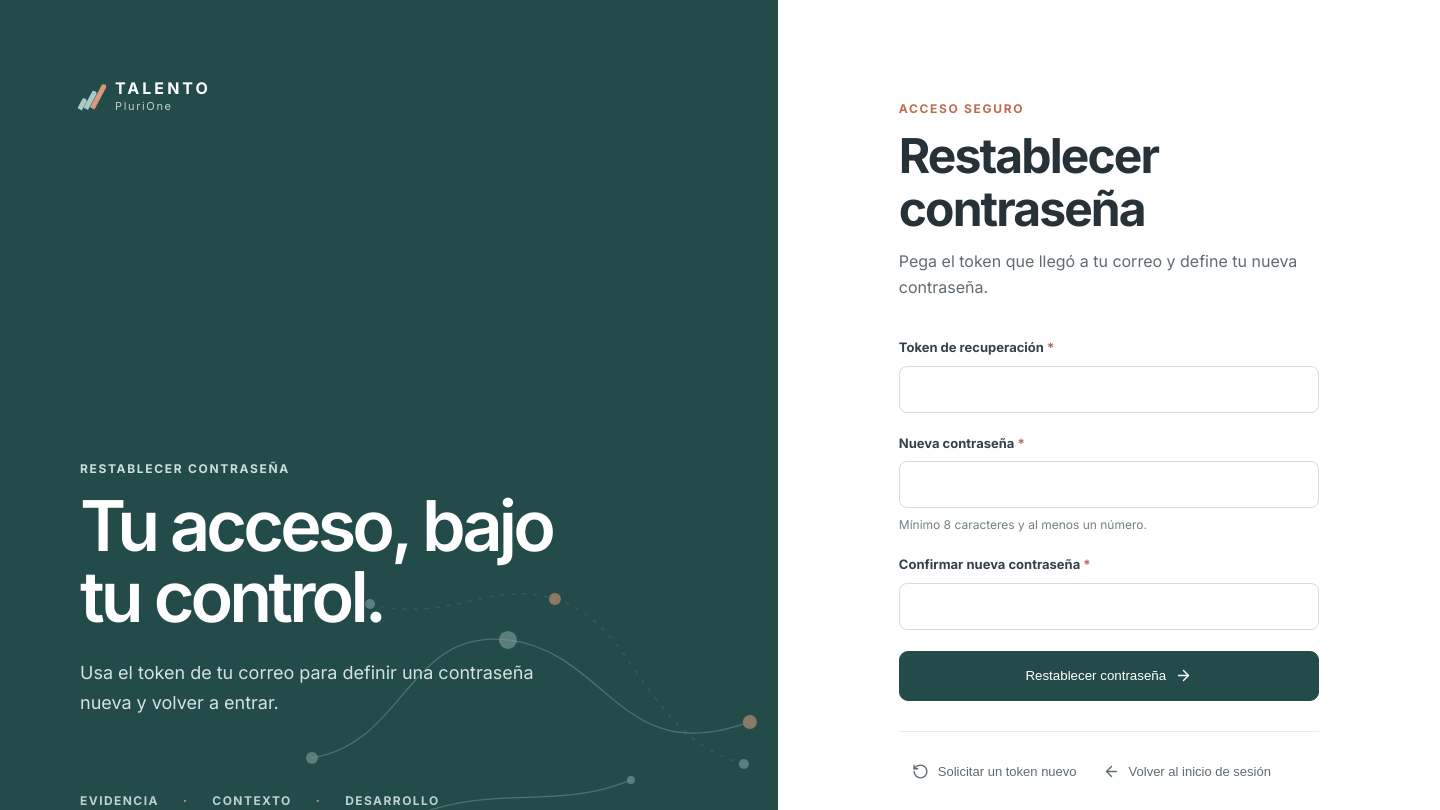
Test: RestablecerContrasena — formulario › no envía nada si las contraseñas no coinciden
Type "token-x" into the field labelled "Token de recuperación".
click(1109, 389); type("token-x")  # box [899,366,1319,413]
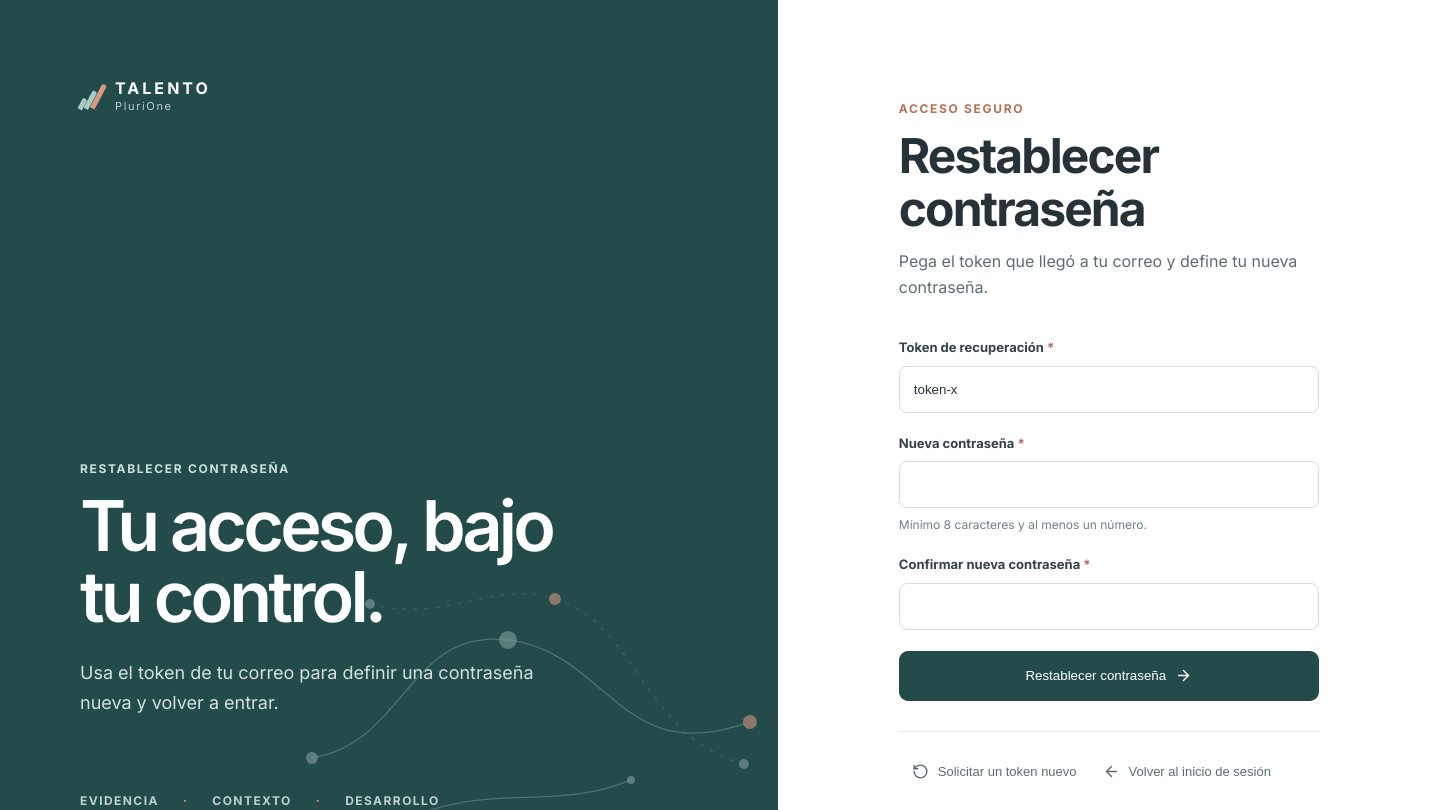
Type "nueva1234" into the password field labelled "Nueva contraseña".
click(1109, 485); type("nueva1234")  # box [899,461,1319,508]
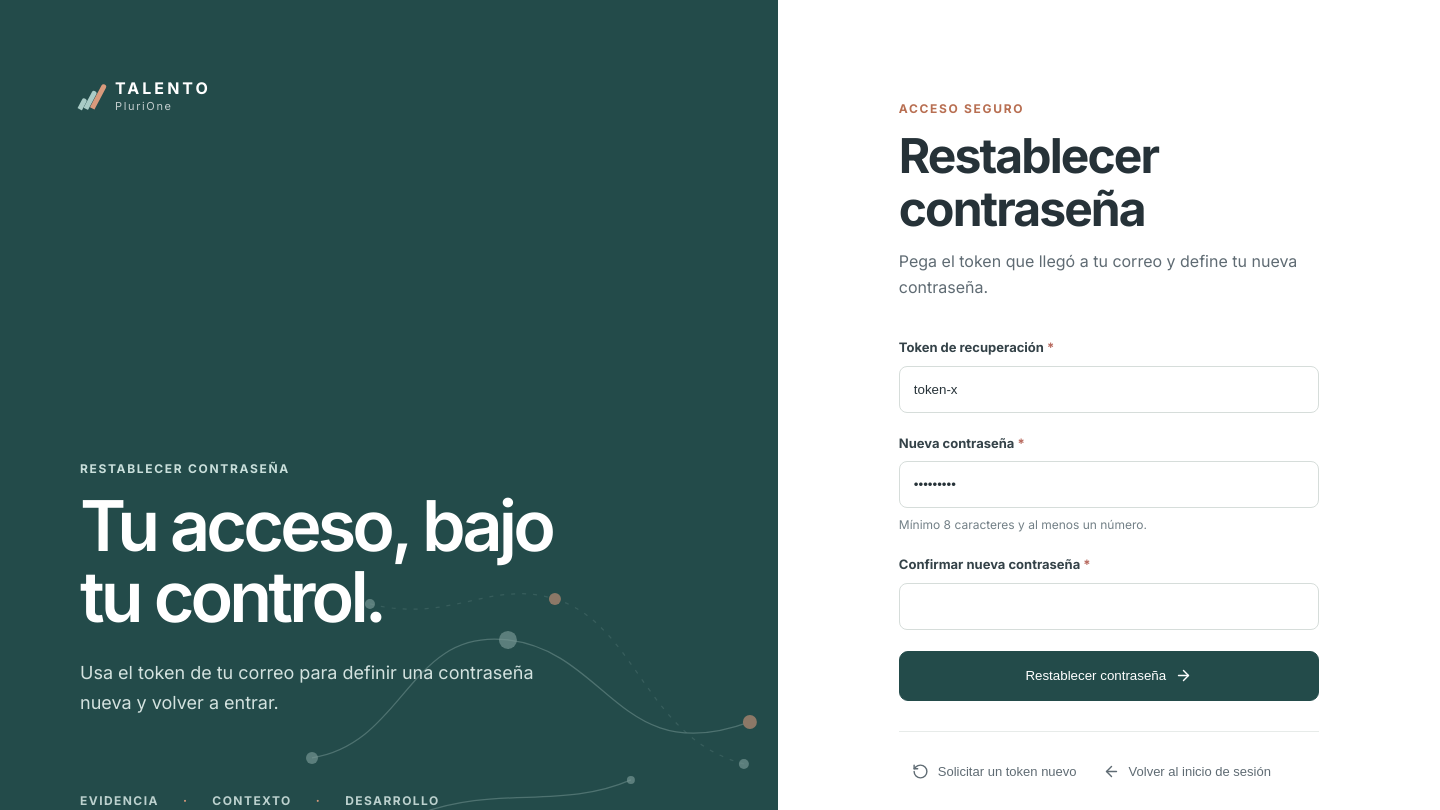
Type "otra1234" into the password field labelled "Confirmar nueva contraseña".
click(1109, 606); type("otra1234")  # box [899,583,1319,630]
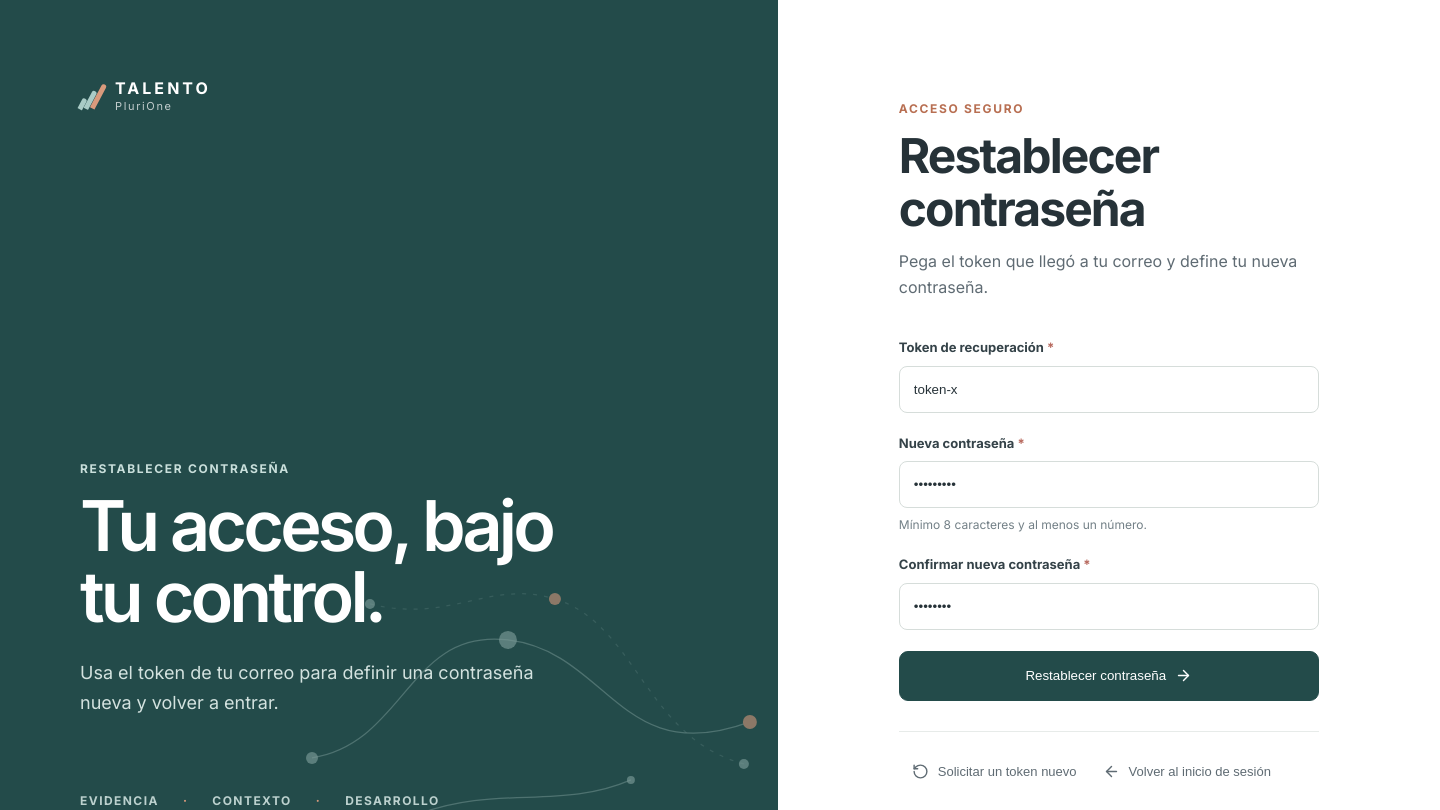
Click the button "Restablecer contraseña".
click(1109, 676)  # box [899,651,1319,701]
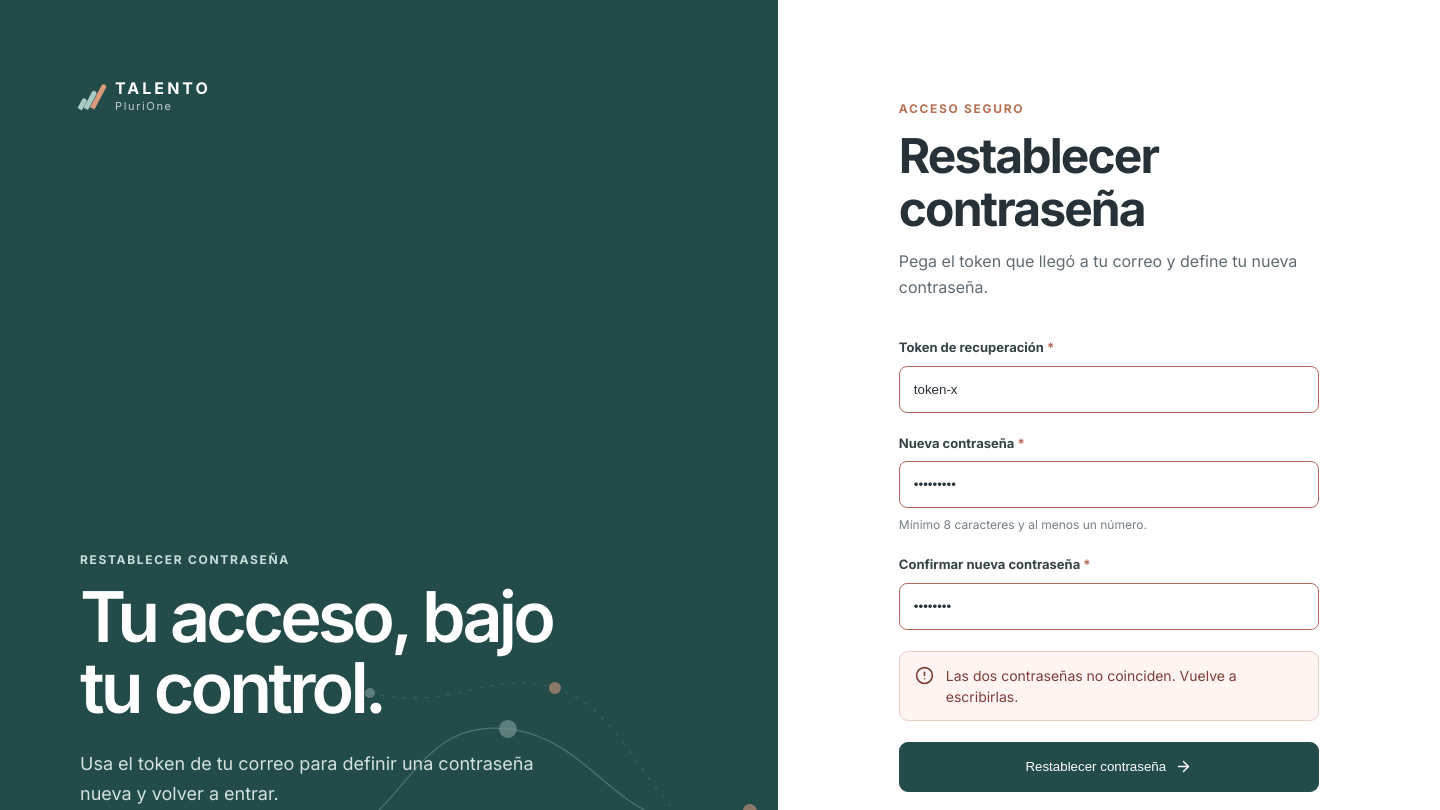
Now the message shows "no coinciden", box [946,667,1237,705]
